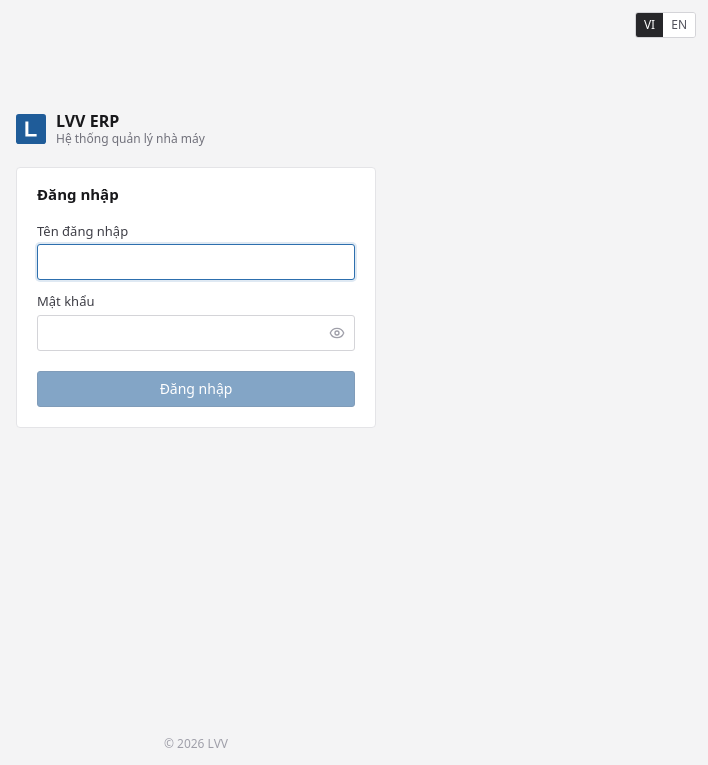
Test case: LoginPage › keeps the button disabled until both fields are filled
Expected: the button "Đăng nhập" is disabled, [37,371,355,407]
Type "admin" into the field labelled "Tên đăng nhập" at [196, 262], box [37,244,355,280]
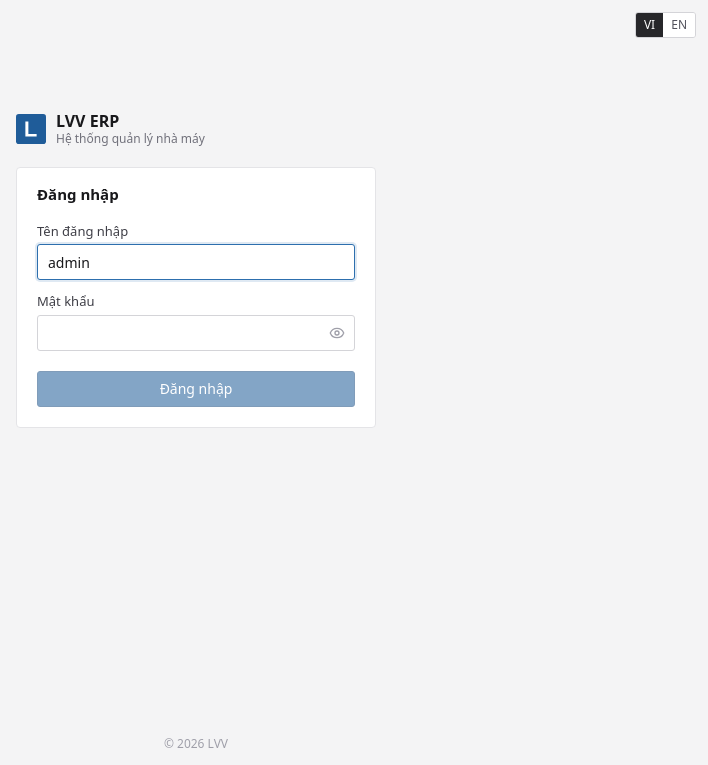
Expected: the button "Đăng nhập" is disabled, [37,371,355,407]
Type "secret" into the password field labelled "Mật khẩu" at [196, 333], box [37,315,355,351]
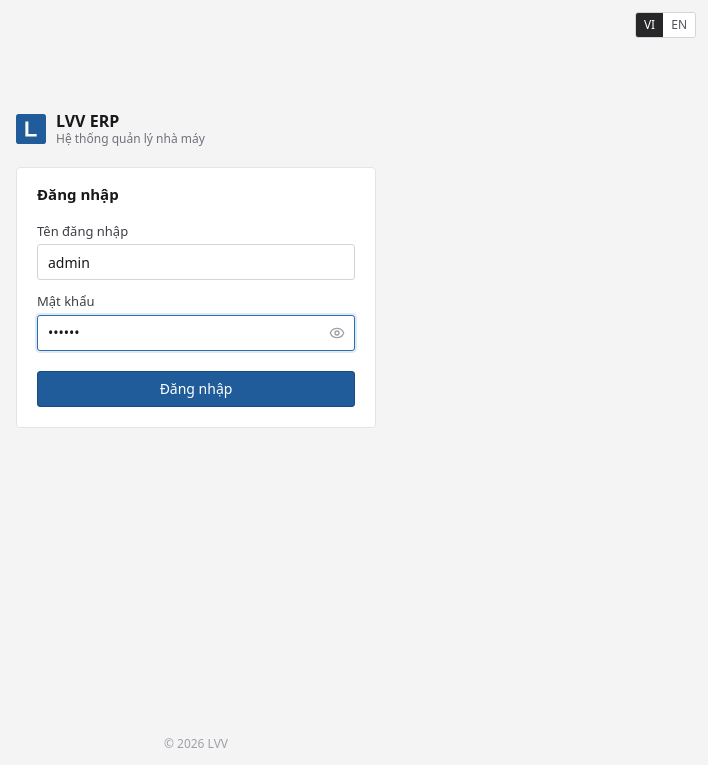
Expected: the button "Đăng nhập" is enabled, [37,371,355,407]
